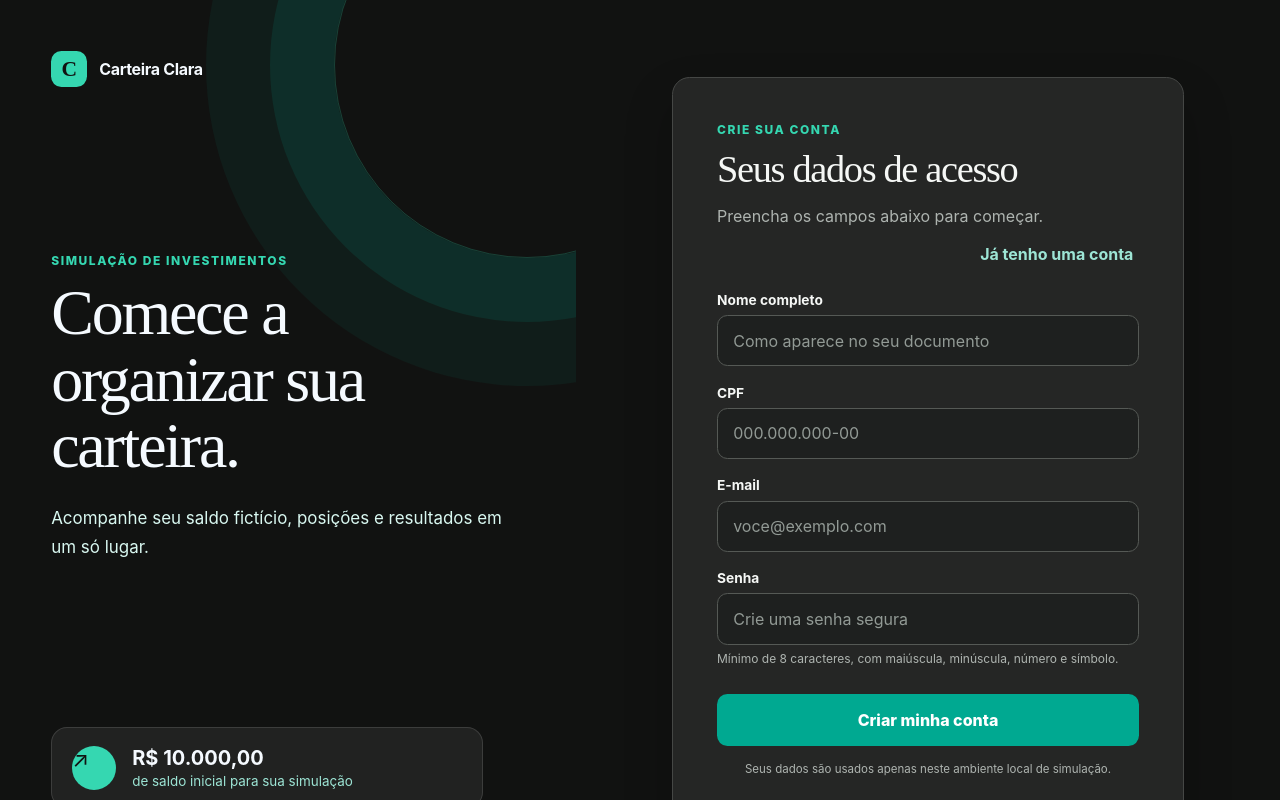
Test: Cadastro › envia os dados e apresenta a tela inicial apenas com o retorno público
In the field labelled "Nome completo": [928, 341] box [717,315,1139,366], type "Ana Silva"
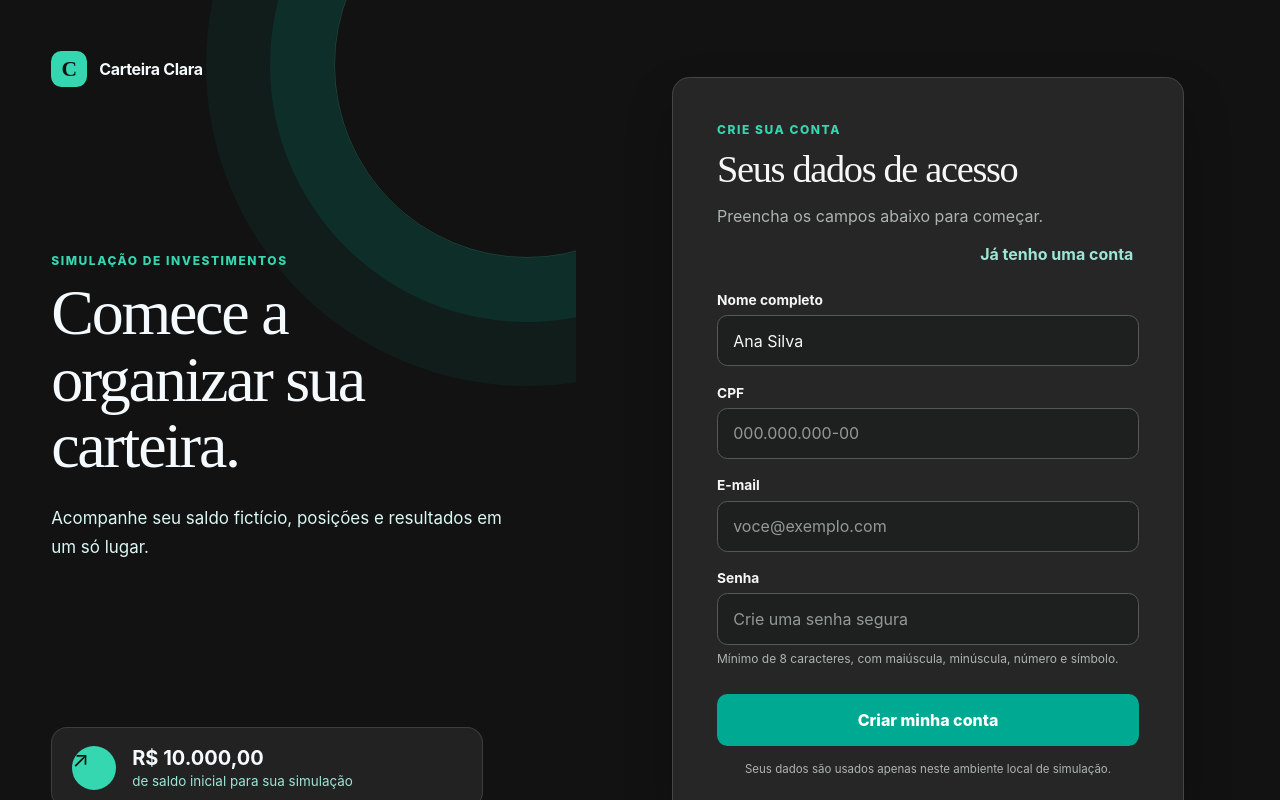
In the field labelled "CPF": [928, 434] box [717,408,1139,459], type "52998224725"
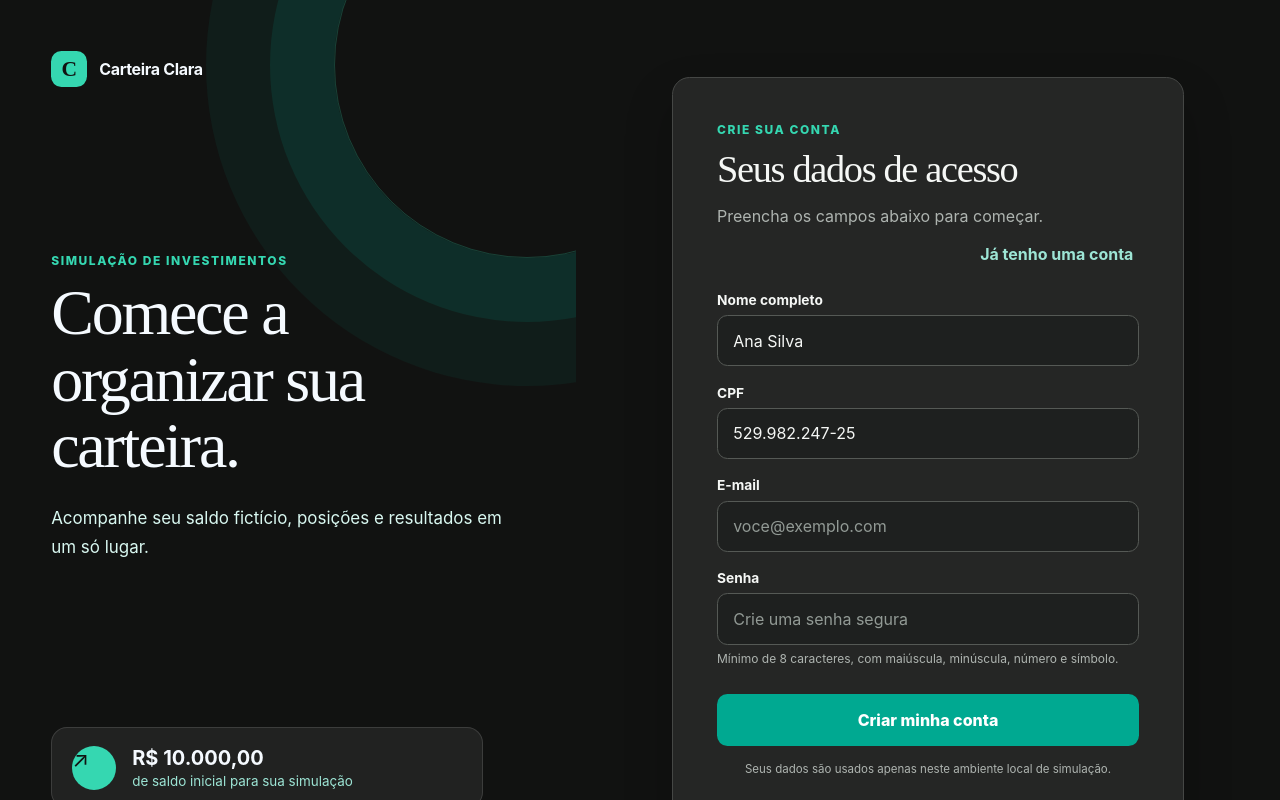
In the field labelled "E-mail": [928, 526] box [717,501,1139,552], type "ana@example.com"
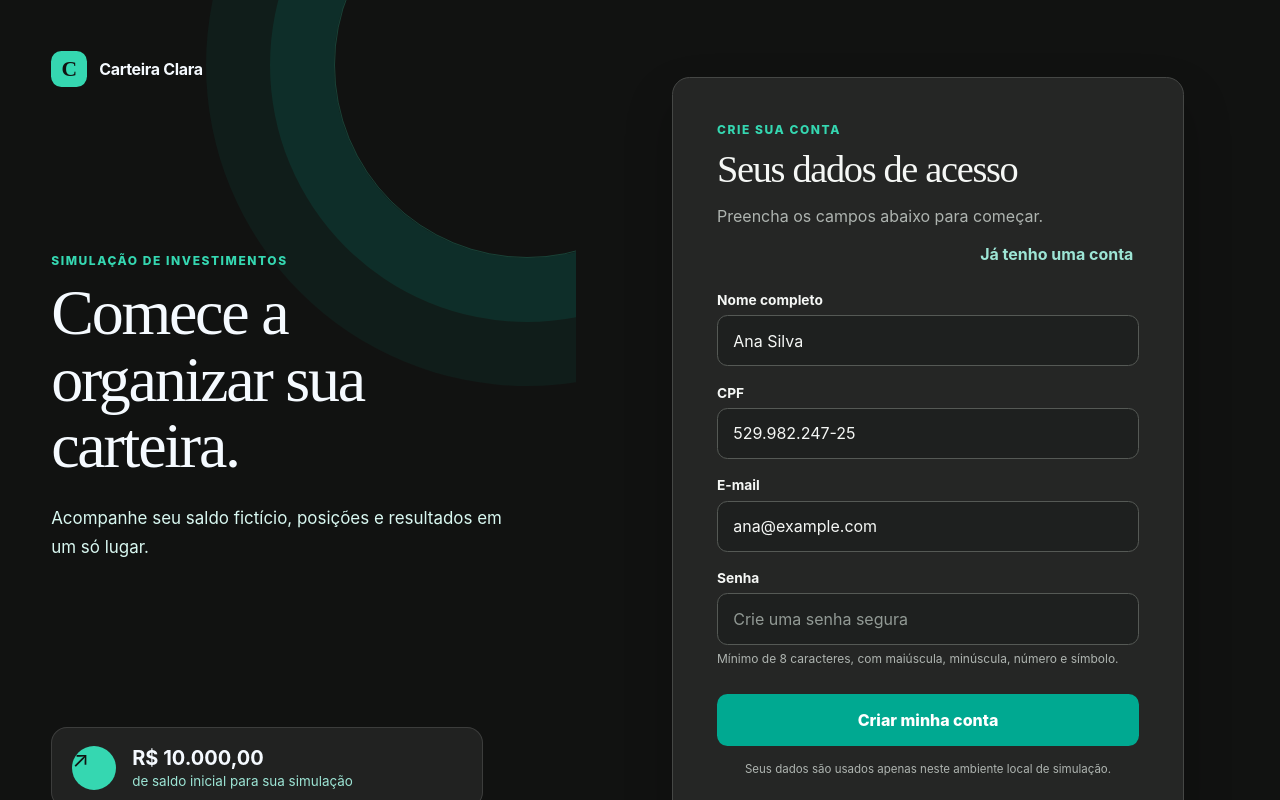
In the password field labelled "Senha": [928, 619] box [717,593,1139,645], type "Senha@123"
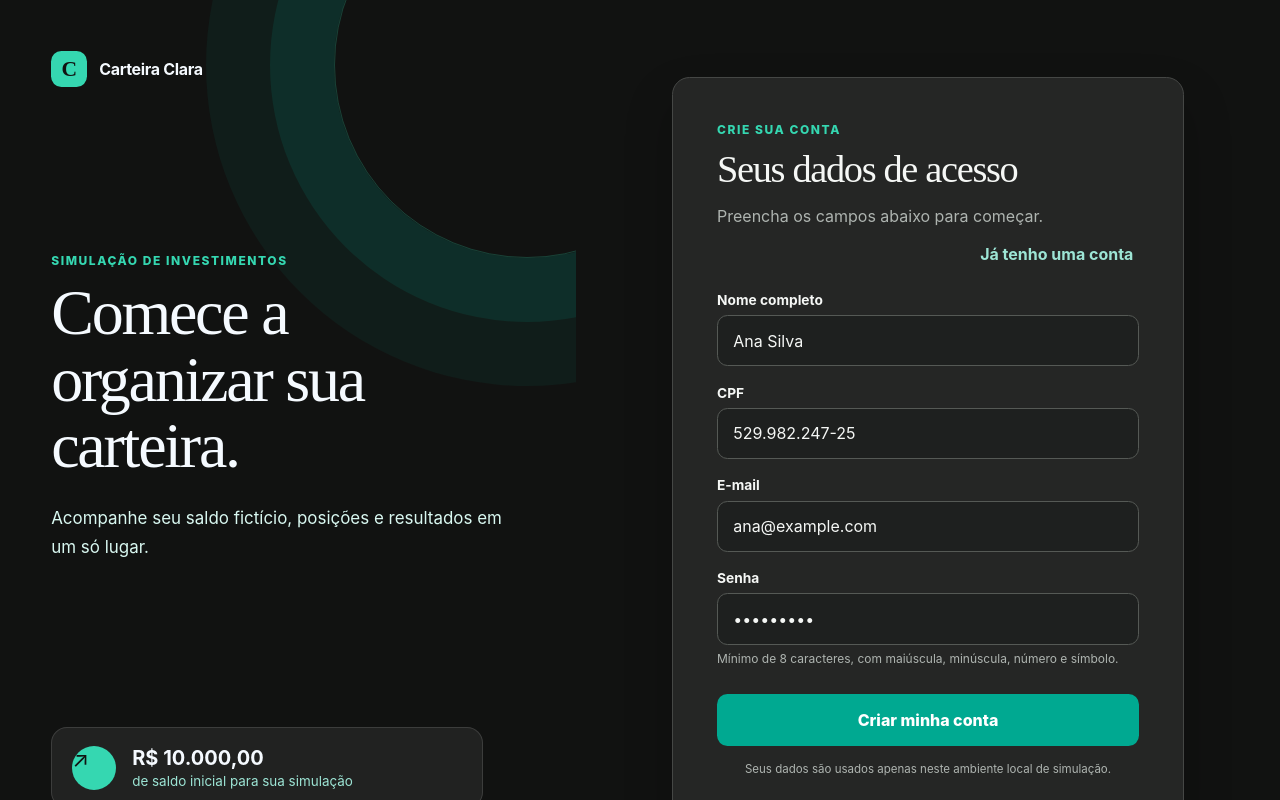
Click the button "Criar minha conta": [928, 720] box [717,694,1139,746]
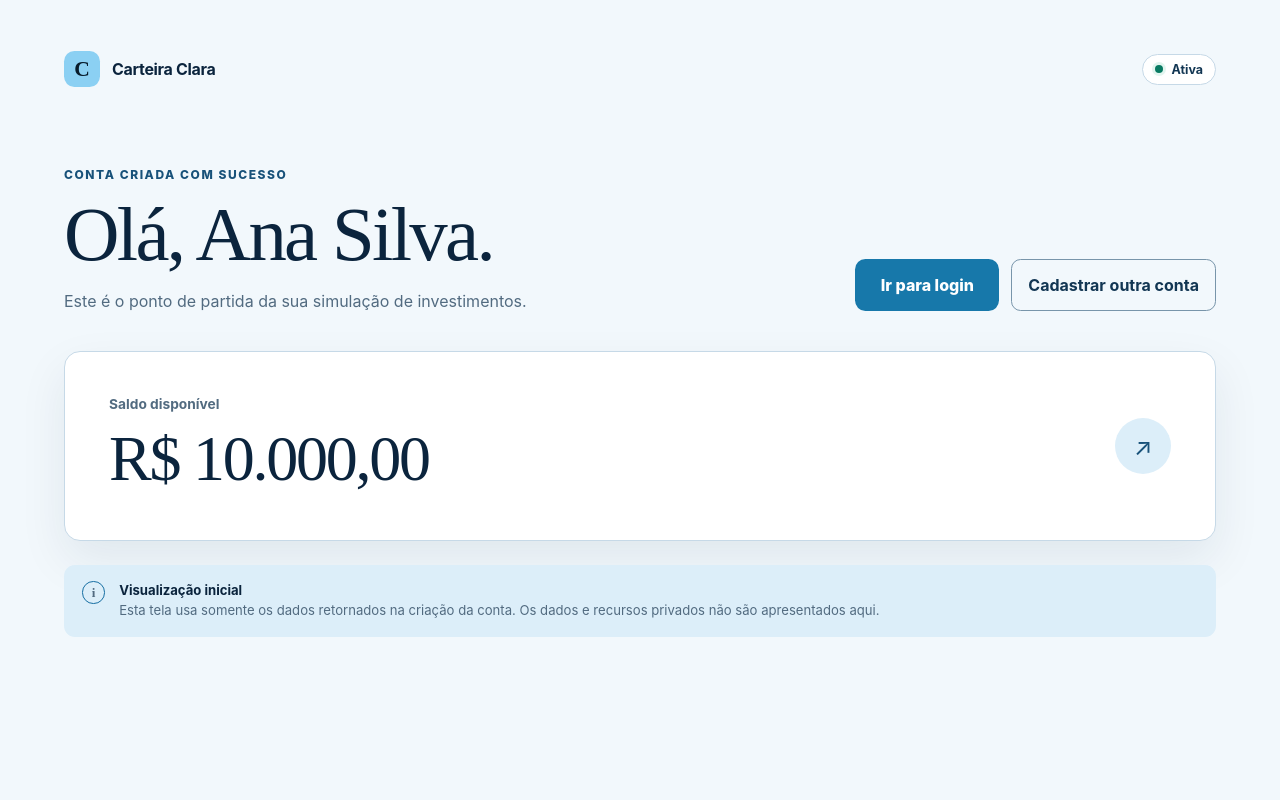
Expected: the heading "Olá, Ana Silva." is shown, [64,195,527,275]
Expected: the text "Ativa" is shown, [1142,54,1216,85]
Expected: the text "Esta tela usa somente os dados retornados" is shown, [119,602,880,618]
